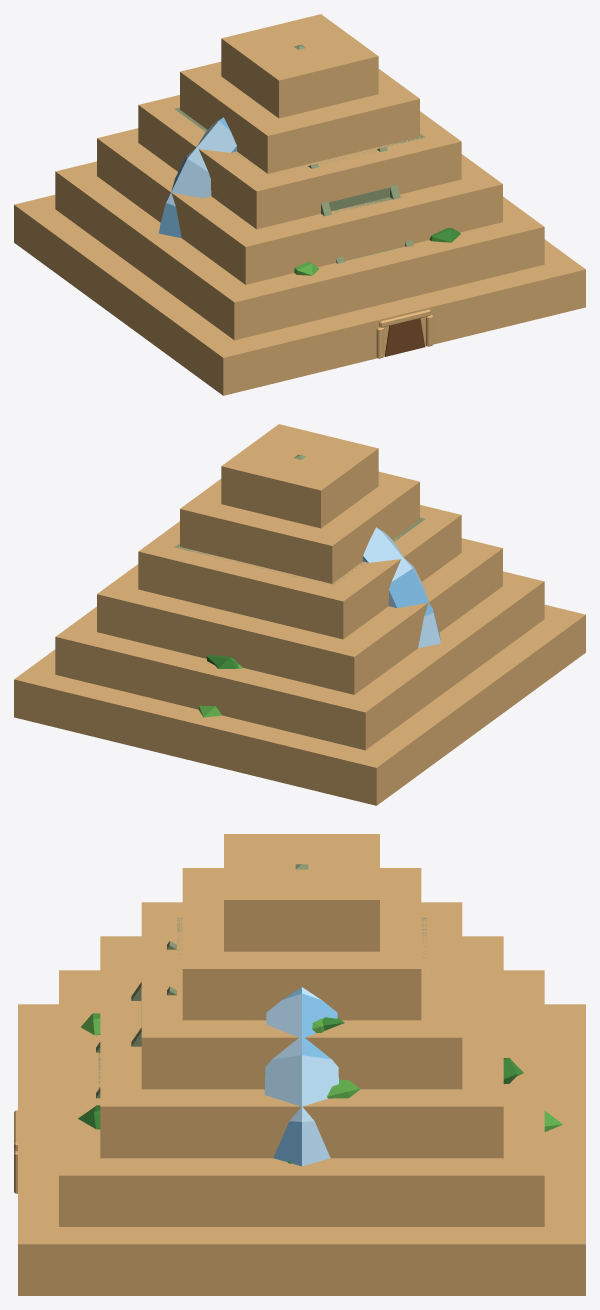
The model's file is kit.glb.
The picture shows the model from 3 angles, top to bottom: view 1: azimuth 30°, elevation 25°; view 2: azimuth 150°, elevation 25°; view 3: azimuth 270°, elevation 25°; orthographic projection. The views are drawn at different scales.
Parts seen in each view (by area): view 1: Pyramid, IceArch, Temple; view 2: Pyramid, IceArch, Temple; view 3: Pyramid, IceArch, Temple.
Part boxes in pixels (x1,y1,x2,y2): Pyramid: (14, 14, 585, 395); IceArch: (158, 117, 236, 237); Temple: (174, 44, 460, 275); Pyramid: (14, 424, 585, 805); IceArch: (363, 527, 441, 648); Temple: (174, 454, 425, 717); Pyramid: (14, 834, 585, 1295); IceArch: (264, 987, 338, 1166); Temple: (78, 864, 562, 1163).
Bounding box in the file's own units: 10 × 6.1 × 10.07.
